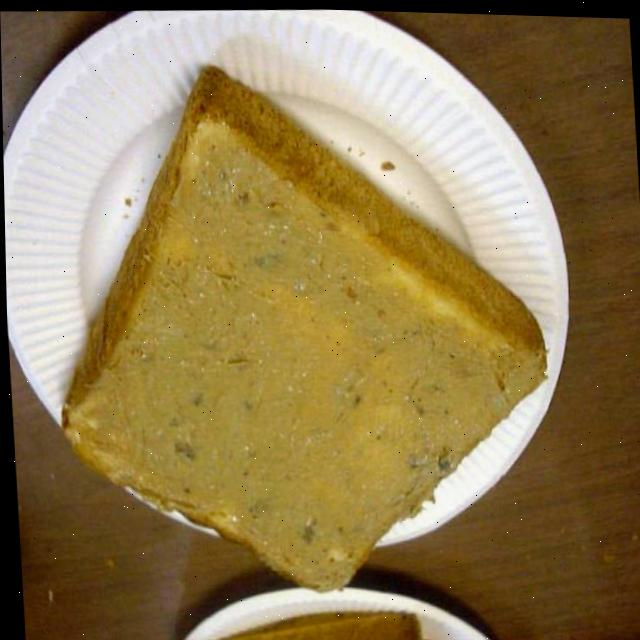面包点心: (34, 47, 563, 602)
